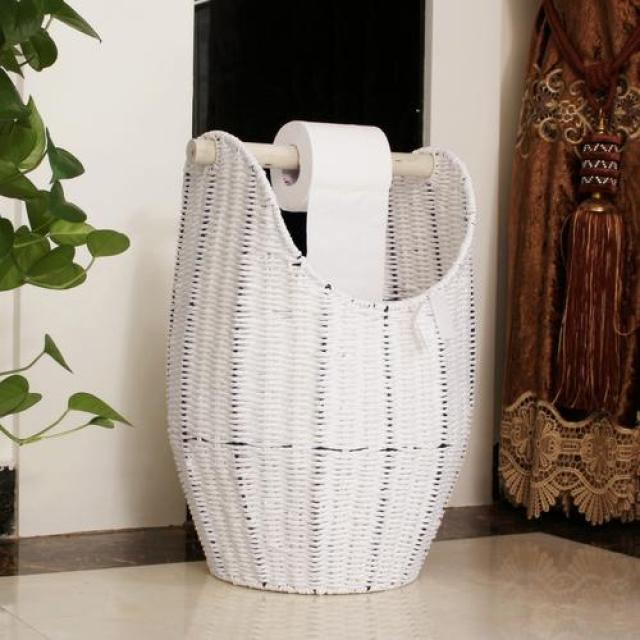dustbin: (156, 112, 483, 602)
